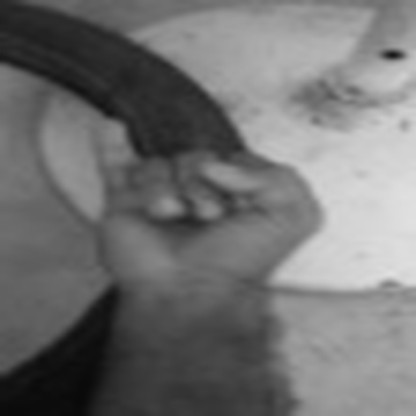i: (65, 87, 328, 302)
